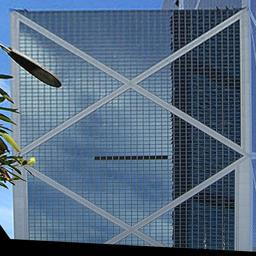building: (12, 0, 247, 256)
